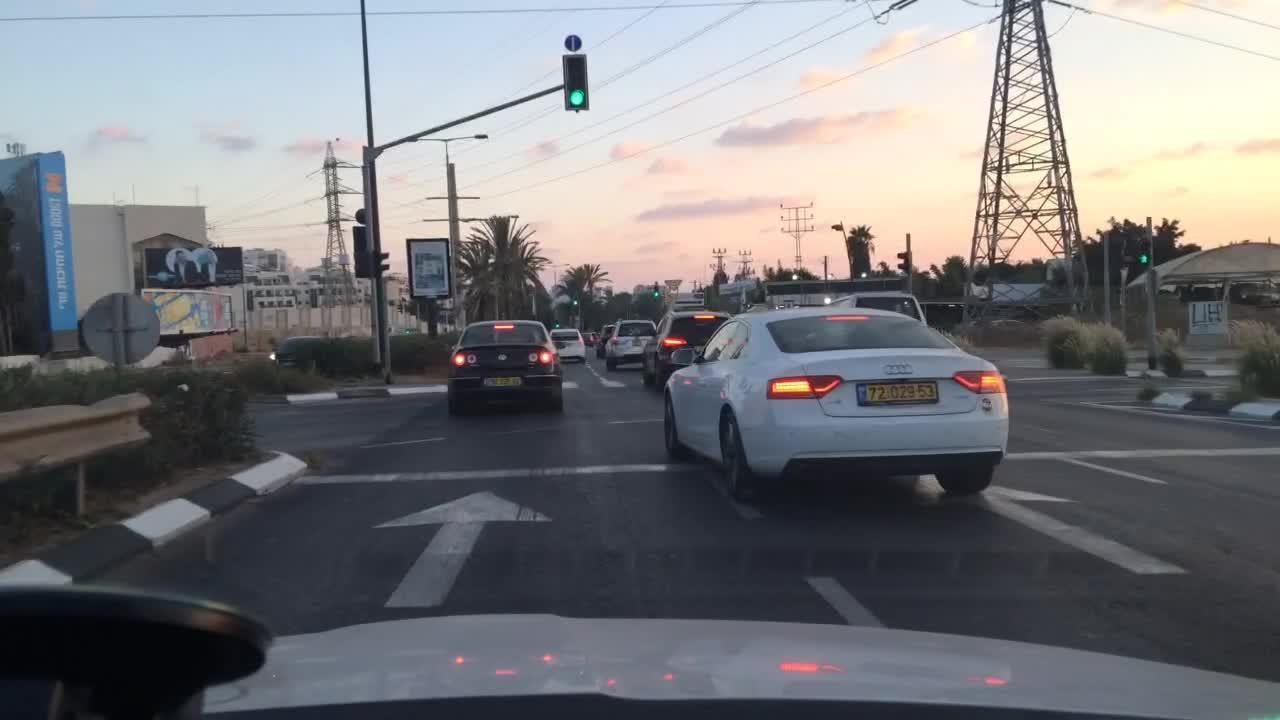Audi: (876, 353, 922, 379)
